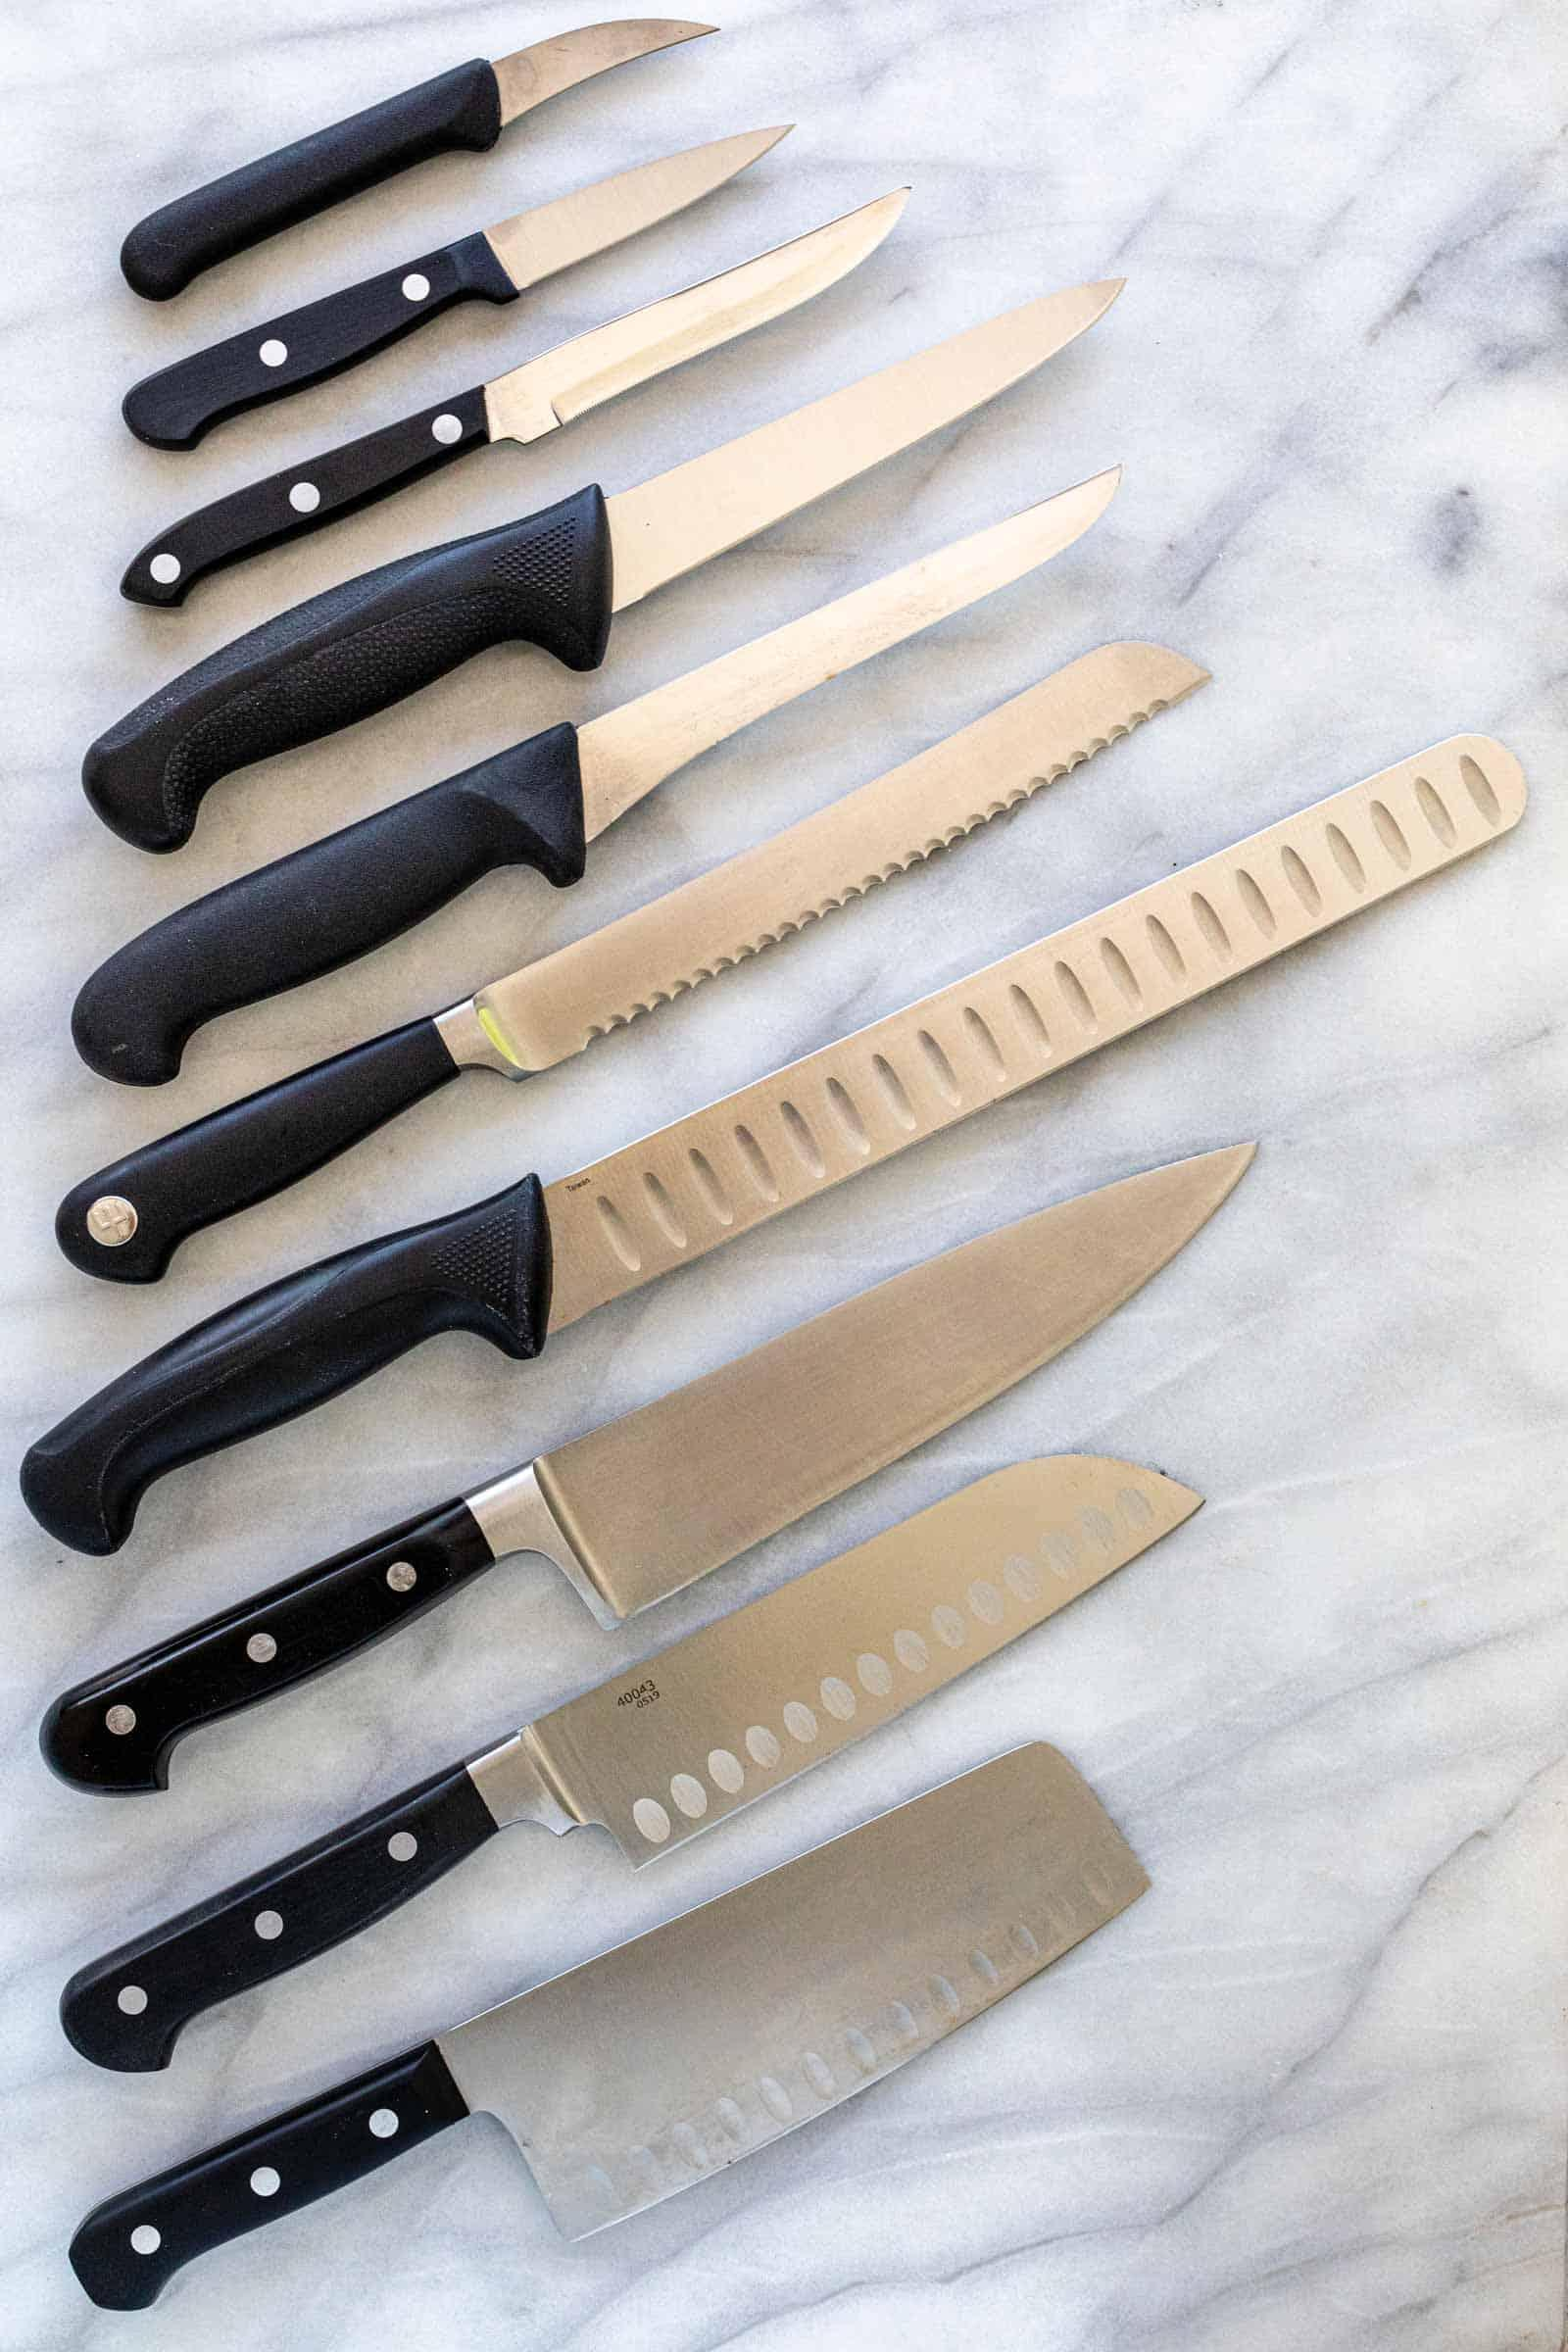faca: (21, 738, 1521, 1554), (40, 1146, 1253, 1794), (56, 644, 1204, 1281), (61, 1456, 1199, 2072), (72, 472, 1113, 1085), (70, 1743, 1148, 2310), (84, 282, 1117, 852), (122, 192, 903, 605), (124, 128, 788, 448), (121, 21, 716, 301)
